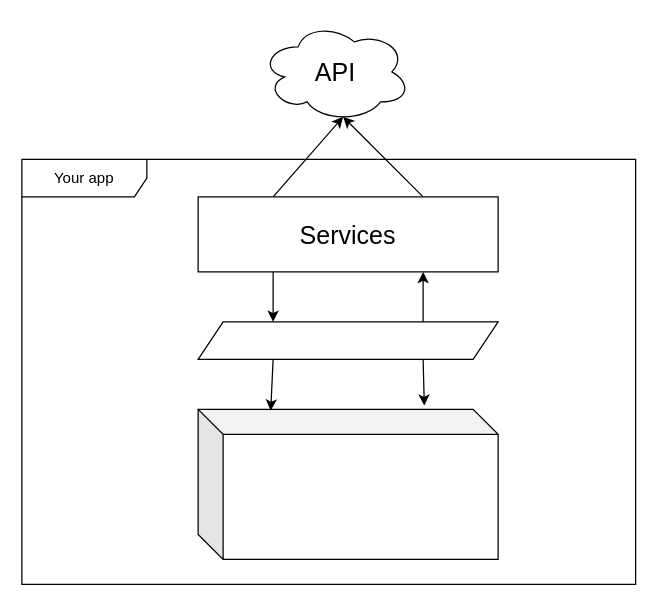
Image size: 658x606. Some labels were removed from this diagram. The shapes that lost their labels are listed below. From the top down, each one's box as (x1, y1, x2, y2) in pixels, then its label:
(197, 321, 498, 359): Data Access Layer (DAL)
(197, 408, 498, 559): VueX
